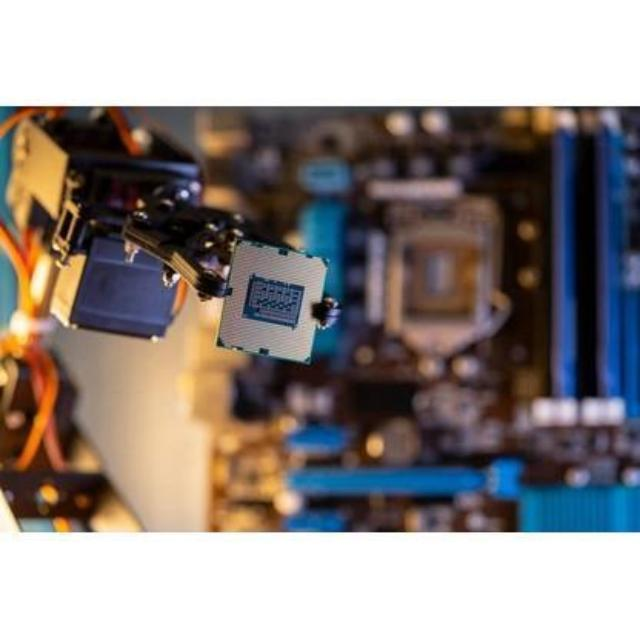CPU: (223, 246, 320, 360)
